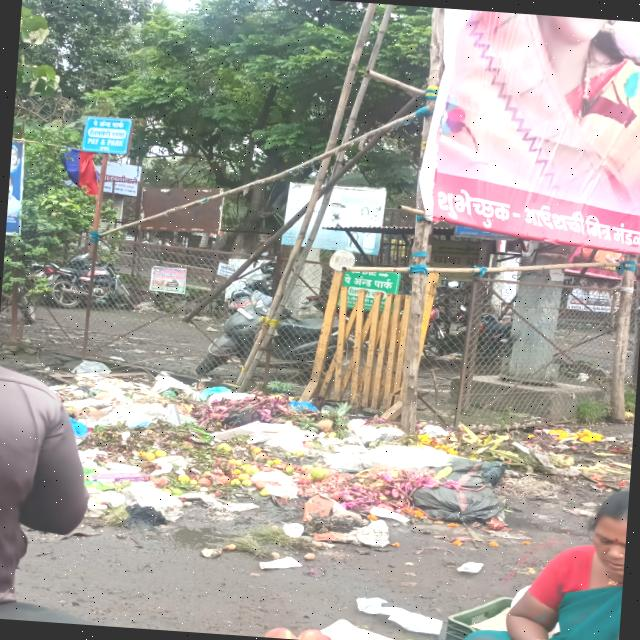garbage: (49, 366, 400, 554), (406, 414, 616, 532)
